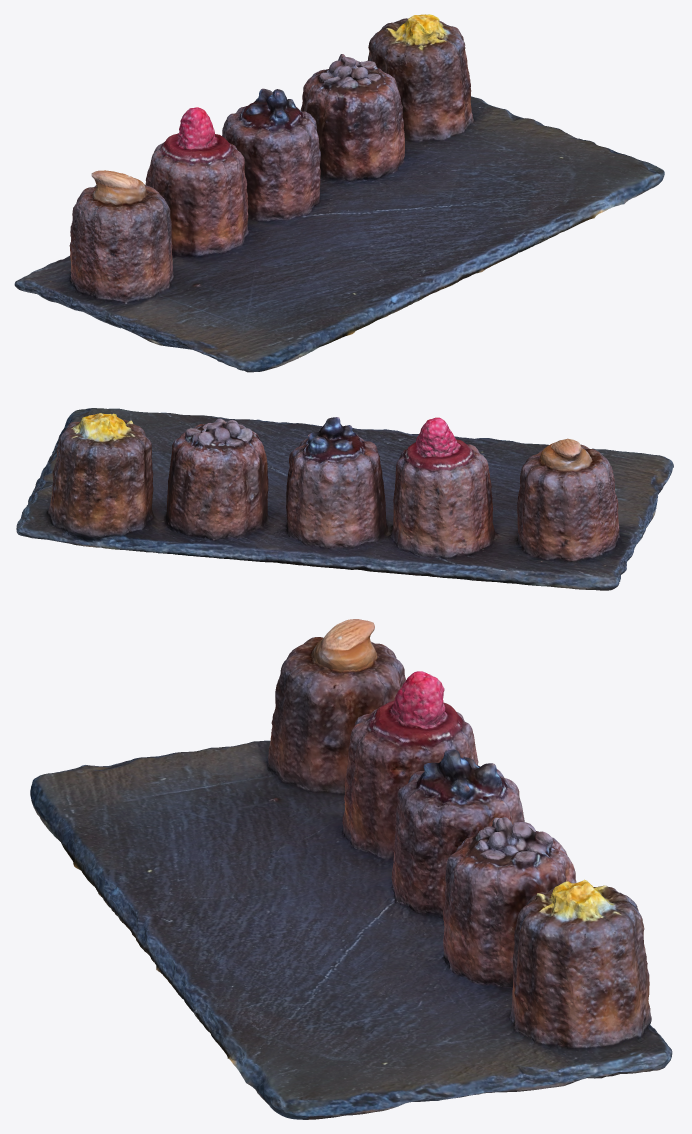
File: 4 ta keik gonbadi.behine.glb
3 renders of one model, top to bottom at view 1: azimuth 30°, elevation 25°; view 2: azimuth 150°, elevation 25°; view 3: azimuth 270°, elevation 25°, orthographic. The views are drawn at different scales.
Parts seen in each view (by area): view 1: object 1; view 2: object 1; view 3: object 1.
Boxes of the visible parts, x1,y1,x2,y2 form: object 1: (14,14,664,372); object 1: (16,408,673,590); object 1: (30,619,672,1119).
Size of the model in its own units: 0.39 by 0.0824 by 0.2795.
2 materials, 1 textured.
